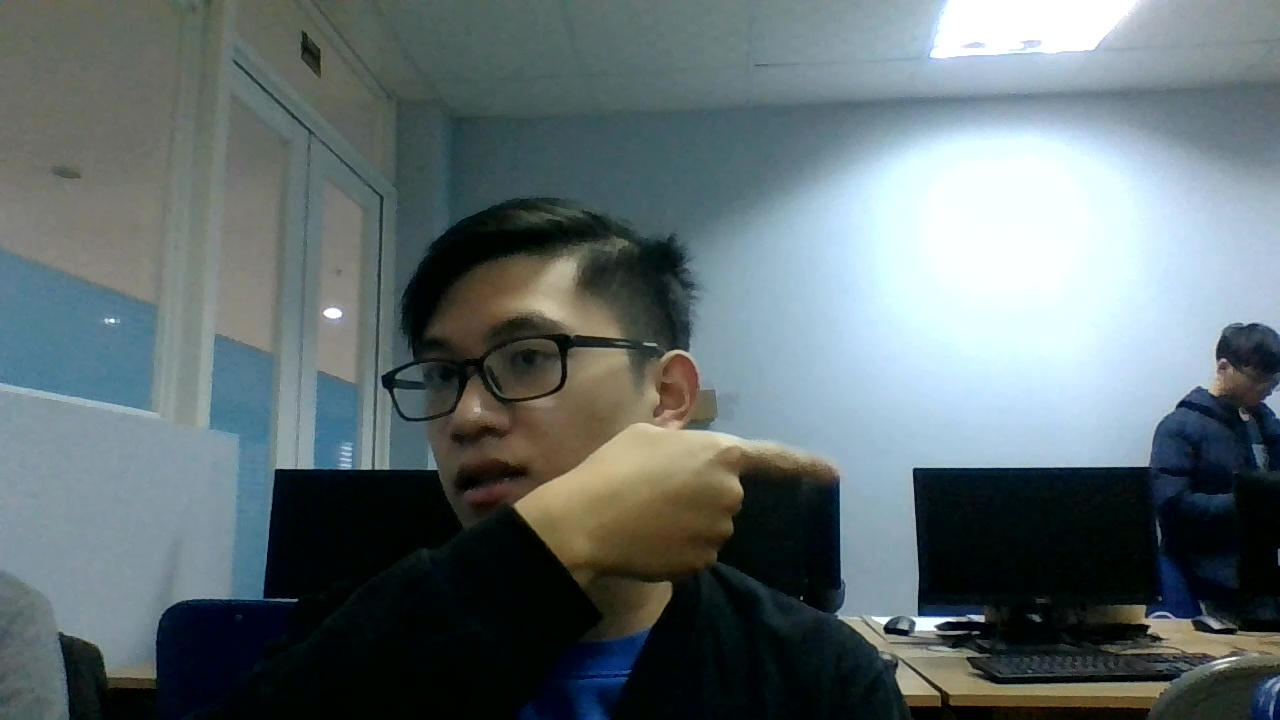left: (551, 415, 852, 592)
